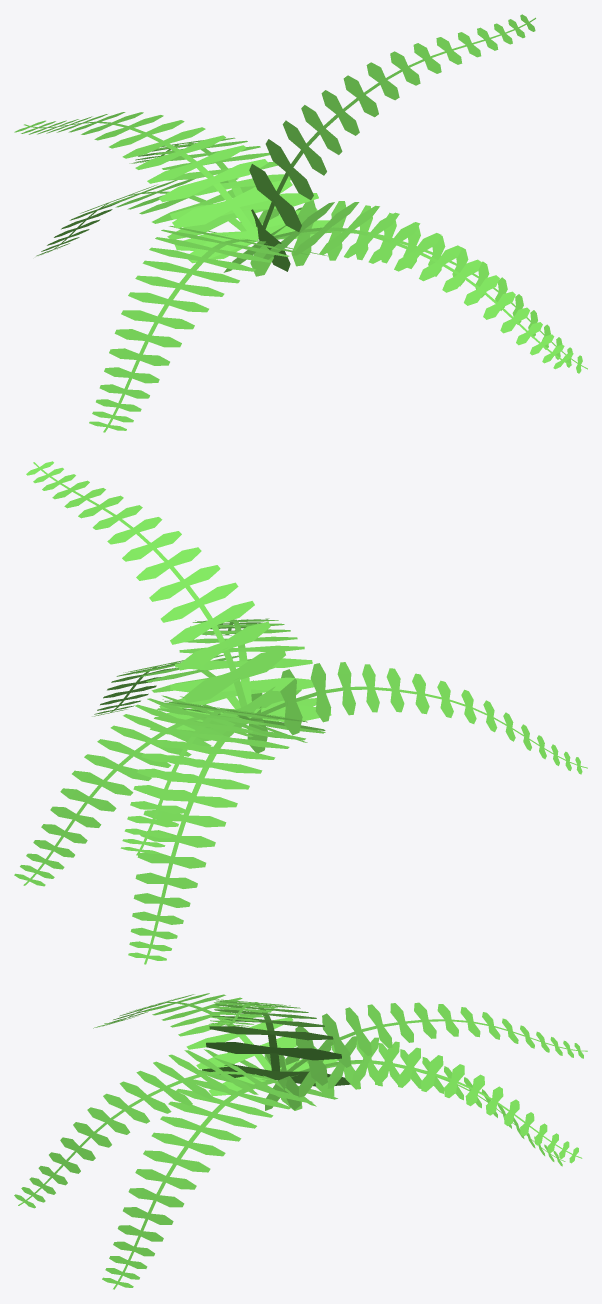
File: Fern 1.fbx
The picture shows the model from 3 angles, top to bottom: view 1: azimuth 30°, elevation 25°; view 2: azimuth 150°, elevation 25°; view 3: azimuth 270°, elevation 25°; orthographic projection. The views are drawn at different scales.
Visible parts, largest first — view 1: Fern 1|Fern Leaf 2|Dupli|1, Fern 1|Fern Leaf 2|Dupli|4, Fern 1|Fern Leaf 2|Dupli|5, Fern 1|Fern Leaf 2|Dupli|3, Fern 1|Fern Leaf 2|Dupli|2, Fern 1|Fern Leaf 2|Dupli|, Fern 1|Fern Leaf 2|Dupli|6; view 2: Fern 1|Fern Leaf 2|Dupli|1, Fern 1|Fern Leaf 2|Dupli|6, Fern 1|Fern Leaf 2|Dupli|, Fern 1|Fern Leaf 2|Dupli|4, Fern 1|Fern Leaf 2|Dupli|5, Fern 1|Fern Leaf 2|Dupli|3, Fern 1|Fern Leaf 2|Dupli|2; view 3: Fern 1|Fern Leaf 2|Dupli|2, Fern 1|Fern Leaf 2|Dupli|3, Fern 1|Fern Leaf 2|Dupli|5, Fern 1|Fern Leaf 2|Dupli|, Fern 1|Fern Leaf 2|Dupli|1, Fern 1|Fern Leaf 2|Dupli|4, Fern 1|Fern Leaf 2|Dupli|6.
Part boxes in pixels (x1=…): Fern 1|Fern Leaf 2|Dupli|1: x1=249, y1=14, x2=535, y2=271; Fern 1|Fern Leaf 2|Dupli|4: x1=89, y1=226, x2=327, y2=432; Fern 1|Fern Leaf 2|Dupli|5: x1=14, y1=112, x2=317, y2=262; Fern 1|Fern Leaf 2|Dupli|3: x1=223, y1=202, x2=573, y2=369; Fern 1|Fern Leaf 2|Dupli|2: x1=250, y1=200, x2=587, y2=373; Fern 1|Fern Leaf 2|Dupli|: x1=129, y1=137, x2=332, y2=250; Fern 1|Fern Leaf 2|Dupli|6: x1=36, y1=178, x2=268, y2=263; Fern 1|Fern Leaf 2|Dupli|1: x1=26, y1=461, x2=301, y2=741; Fern 1|Fern Leaf 2|Dupli|6: x1=128, y1=721, x2=325, y2=964; Fern 1|Fern Leaf 2|Dupli|: x1=14, y1=695, x2=307, y2=886; Fern 1|Fern Leaf 2|Dupli|4: x1=247, y1=662, x2=587, y2=774; Fern 1|Fern Leaf 2|Dupli|5: x1=120, y1=699, x2=325, y2=855; Fern 1|Fern Leaf 2|Dupli|3: x1=166, y1=618, x2=331, y2=721; Fern 1|Fern Leaf 2|Dupli|2: x1=92, y1=654, x2=316, y2=731; Fern 1|Fern Leaf 2|Dupli|2: x1=102, y1=1070, x2=337, y2=1289; Fern 1|Fern Leaf 2|Dupli|3: x1=14, y1=1049, x2=316, y2=1208; Fern 1|Fern Leaf 2|Dupli|5: x1=265, y1=1002, x2=587, y2=1109; Fern 1|Fern Leaf 2|Dupli|: x1=265, y1=1036, x2=582, y2=1163; Fern 1|Fern Leaf 2|Dupli|1: x1=202, y1=999, x2=350, y2=1086; Fern 1|Fern Leaf 2|Dupli|4: x1=93, y1=993, x2=338, y2=1096; Fern 1|Fern Leaf 2|Dupli|6: x1=264, y1=1040, x2=565, y2=1166.
Size of the model in its own units: 796 by 455 by 880.
